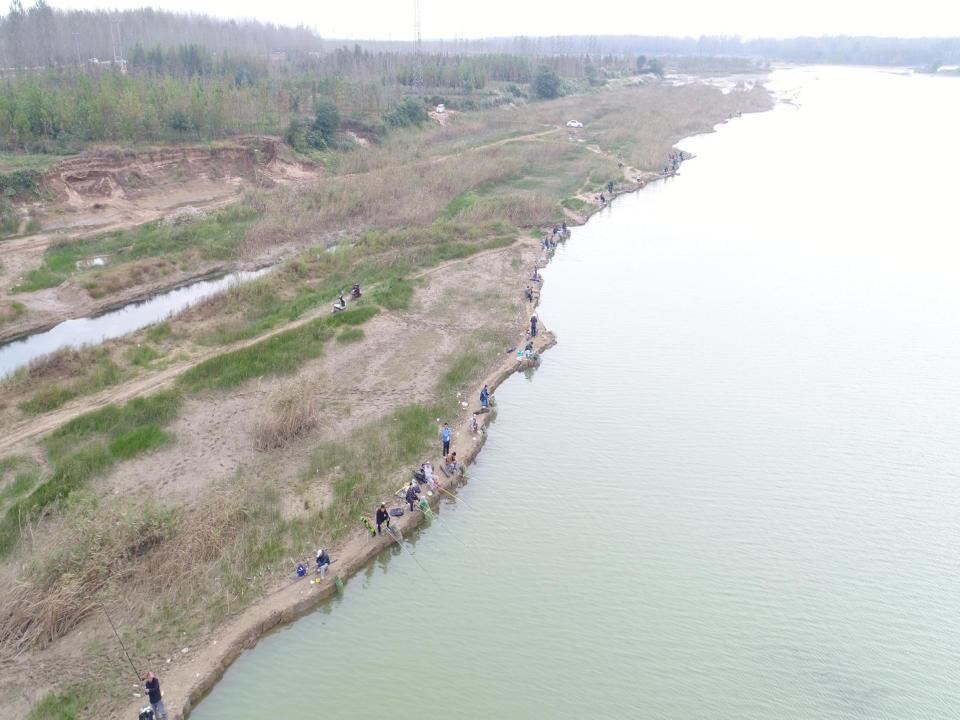car: (566, 118, 583, 129)
van: (436, 103, 446, 114)
